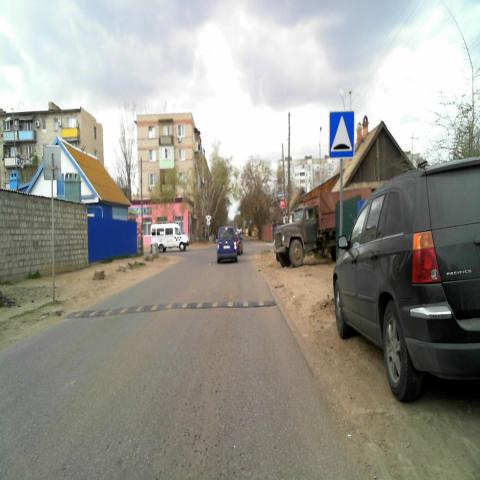5_20: (330, 112, 354, 158)
